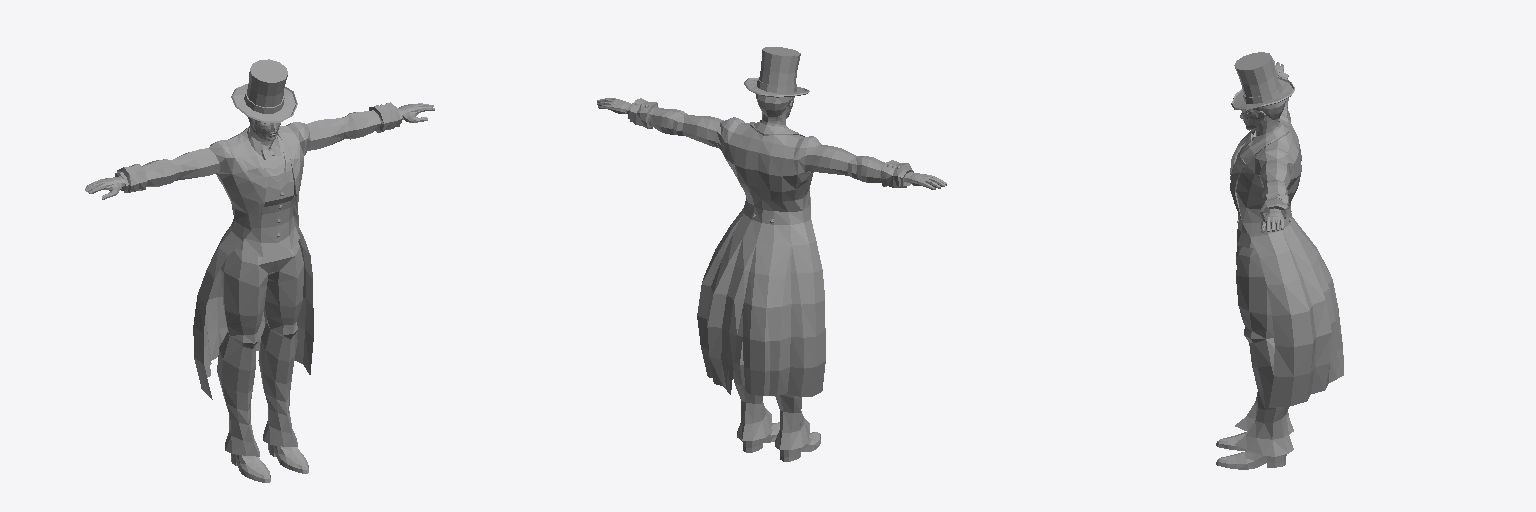
The model's file is William.obj.
The picture shows the model from 3 angles: view 1: azimuth 30°, elevation 25°; view 2: azimuth 150°, elevation 25°; view 3: azimuth 270°, elevation 25°; orthographic projection.
Parts seen in each view (by area): view 1: Mesh_1430.rip; view 2: Mesh_1430.rip; view 3: Mesh_1430.rip.
Part boxes in pixels (x1,y1,x2,y2): Mesh_1430.rip: (85,59,434,482); Mesh_1430.rip: (597,47,946,461); Mesh_1430.rip: (1216,52,1343,469).
Size of the model in its own units: 1.82 by 1.98 by 0.5816.